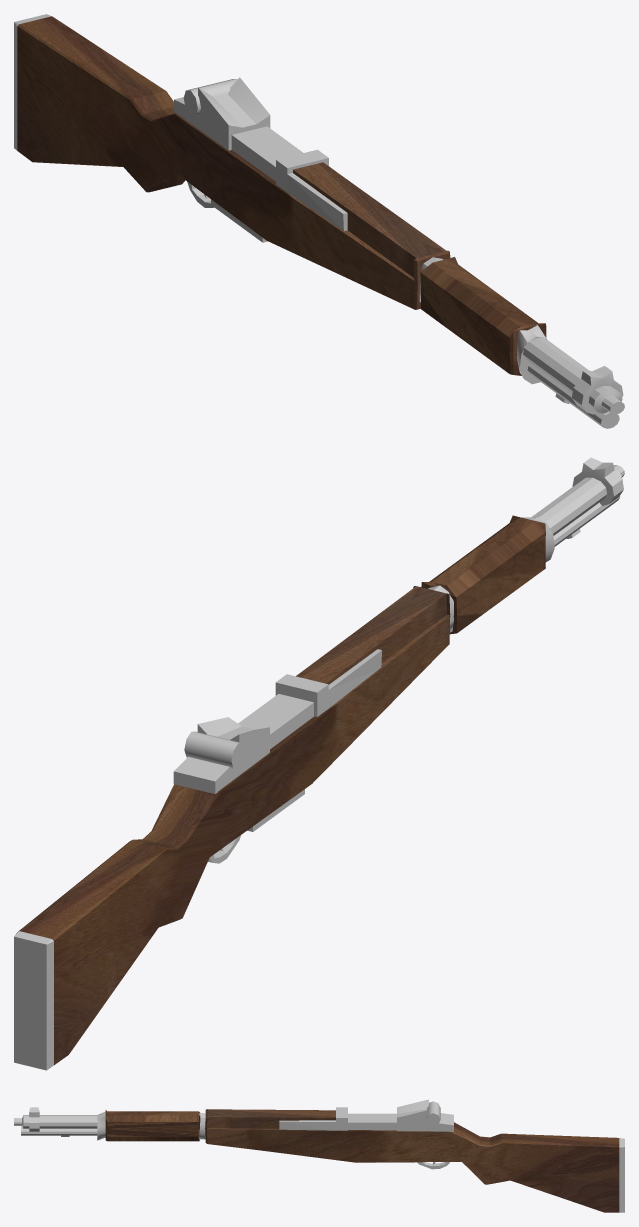
File: M1GARAND.FBX
3 views of the same model, one above another, from view 1: azimuth 30°, elevation 25°; view 2: azimuth 150°, elevation 25°; view 3: azimuth 270°, elevation 25° (orthographic). The views are drawn at different scales.
Parts seen in each view (by area): view 1: Cylinder003; view 2: Cylinder003; view 3: Cylinder003.
Part boxes in pixels (x1,y1,x2,y2): Cylinder003: [14, 14, 624, 428]; Cylinder003: [14, 457, 624, 1070]; Cylinder003: [14, 1099, 624, 1212].
Bounding box in the file's own units: 6.26 × 25.34 × 135.
